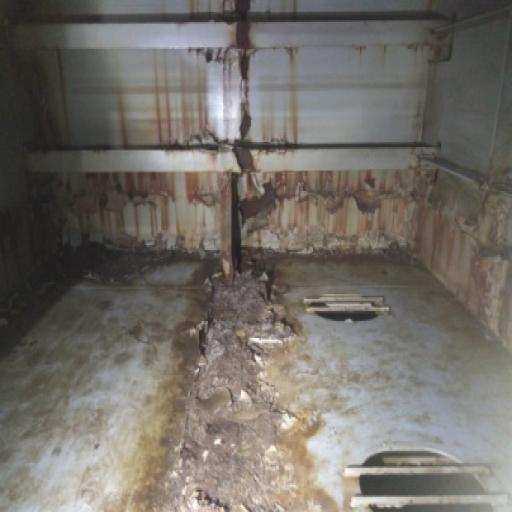Detect-rust-on-metal-surfaces: (1, 0, 511, 510)
